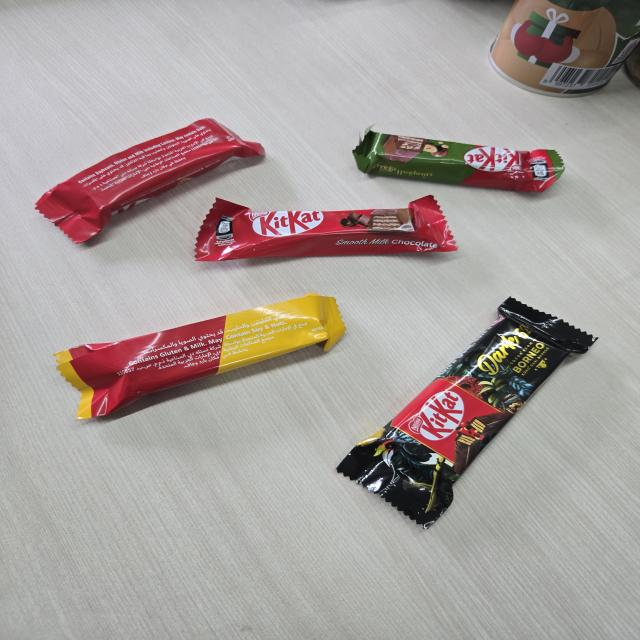chocolate-bar: (334, 295, 604, 532), (57, 283, 352, 429), (35, 115, 274, 248), (188, 185, 470, 266), (344, 121, 570, 202)
